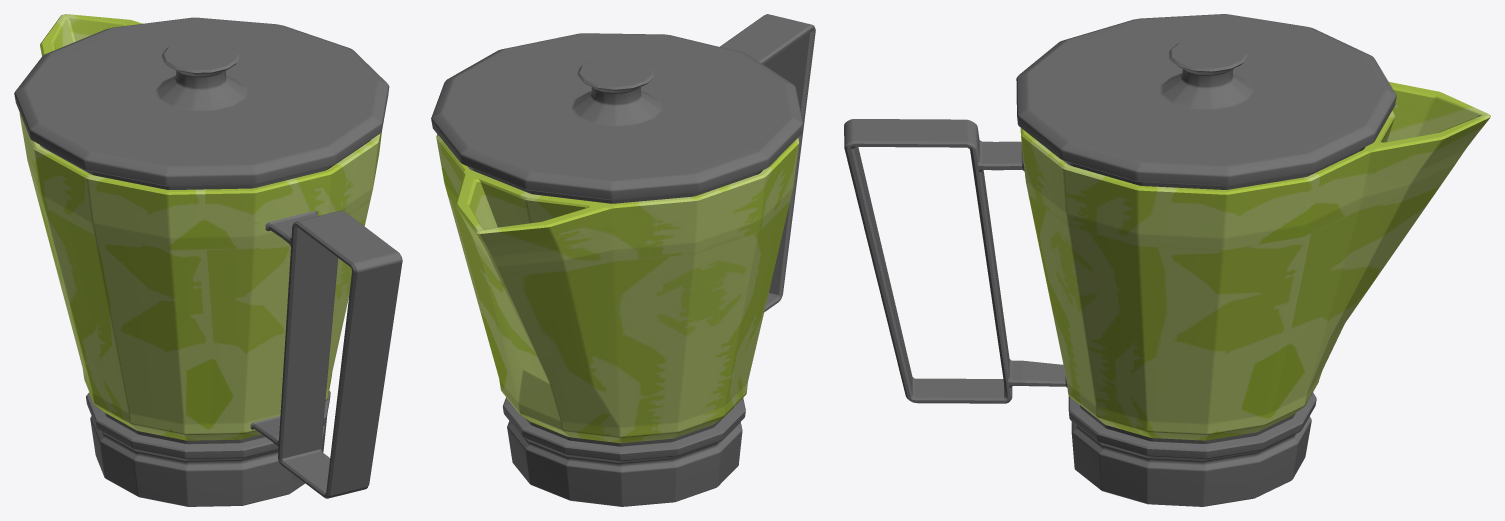
The model's file is kettle.fbx.
The picture shows the model from 3 angles, left to right: view 1: azimuth 30°, elevation 25°; view 2: azimuth 150°, elevation 25°; view 3: azimuth 270°, elevation 25°; orthographic projection. The views are drawn at different scales.
Parts seen in each view (by area): view 1: kettle2, kettle_lid; view 2: kettle2, kettle_lid; view 3: kettle2, kettle_lid.
Boxes of the visible parts, box(x1,y1,x2,y2) form: kettle2: box(19, 14, 402, 506); kettle_lid: box(14, 17, 389, 189); kettle2: box(436, 14, 815, 506); kettle_lid: box(431, 33, 803, 203); kettle2: box(844, 82, 1490, 506); kettle_lid: box(1016, 14, 1396, 189).
Bounding box in the file's own units: 2.88 × 3.37 × 4.87.
